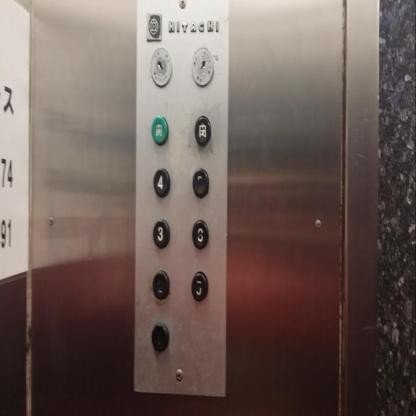1: (151, 321, 169, 352)
2: (152, 267, 169, 300)
3: (151, 216, 170, 249)
4: (152, 167, 171, 198)
6: (191, 218, 209, 249)
blur: (192, 166, 209, 200), (190, 269, 208, 301)
keyhole: (150, 47, 172, 86), (192, 47, 213, 86)
text: (194, 115, 211, 146), (151, 116, 168, 145)
unknown: (146, 12, 162, 40)
